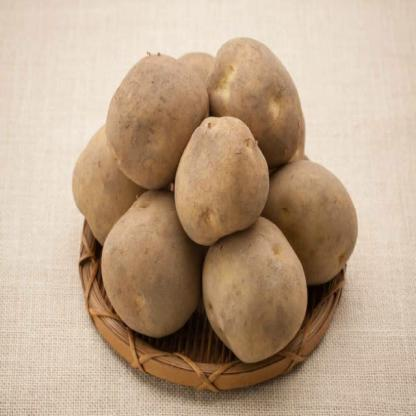potato: (197, 211, 311, 373), (99, 186, 205, 338), (104, 51, 211, 183), (171, 115, 272, 242), (209, 37, 304, 166), (268, 159, 359, 285), (72, 118, 145, 244)
